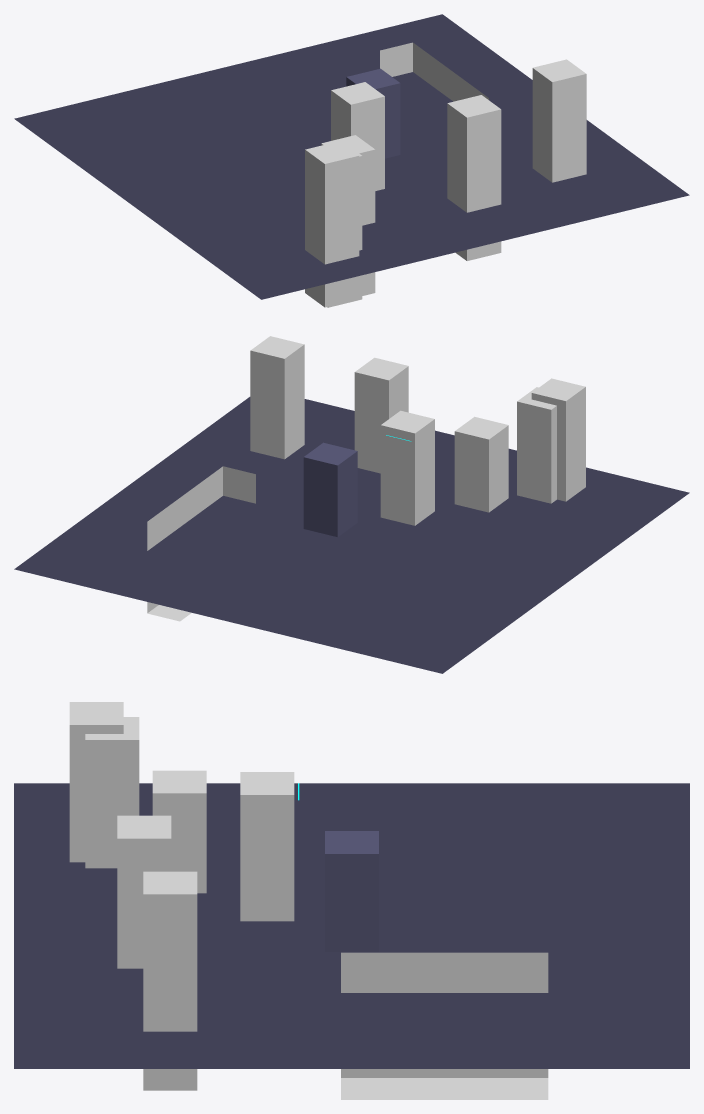
Rendered from cyberpunk_city.glb.
3 renders of one model, top to bottom at view 1: azimuth 30°, elevation 25°; view 2: azimuth 150°, elevation 25°; view 3: azimuth 270°, elevation 25°, orthographic. The views are drawn at different scales.
Visible parts, largest first — view 1: Ground, Building_01.004, Building_01.007, Building_01.006, Building_01.003, Building_01.001, Building_01, Building_01.002, Building_01.005; view 2: Ground, Building_01.006, Building_01.003, Building_01.002, Building_01, Building_01.007, Building_01.005, Building_01.004, Building_01.001; view 3: Ground, Building_01.001, Building_01.006, Building_01.003, Building_01.005, Building_01, Building_01.007, Building_01.002, Building_01.004.
Part boxes in pixels (left/top/right/bottom): Ground: left=14, top=14, right=689, bottom=299; Building_01.004: left=305, top=141, right=359, bottom=307; Building_01.007: left=447, top=95, right=501, bottom=260; Building_01.006: left=532, top=59, right=586, bottom=182; Building_01.003: left=331, top=82, right=384, bottom=190; Building_01.001: left=380, top=42, right=488, bottom=101; Building_01: left=346, top=68, right=400, bottom=158; Building_01.002: left=321, top=135, right=375, bottom=295; Building_01.005: left=327, top=141, right=362, bottom=307; Ground: left=14, top=397, right=689, bottom=673; Building_01.006: left=250, top=336, right=304, bottom=459; Building_01.003: left=380, top=410, right=434, bottom=525; Building_01.002: left=454, top=416, right=508, bottom=512; Building_01: left=303, top=442, right=357, bottom=537; Building_01.007: left=354, top=357, right=408, bottom=473; Building_01.005: left=517, top=387, right=556, bottom=503; Building_01.004: left=531, top=378, right=585, bottom=501; Building_01.001: left=147, top=466, right=255, bottom=621; Ground: left=14, top=783, right=689, bottom=1068; Building_01.001: left=341, top=952, right=548, bottom=1099; Building_01.006: left=143, top=871, right=197, bottom=1090; Building_01.003: left=240, top=772, right=294, bottom=921; Building_01.005: left=85, top=717, right=139, bottom=868; Building_01: left=325, top=831, right=378, bottom=951; Building_01.007: left=117, top=815, right=171, bottom=968; Building_01.002: left=152, top=770, right=206, bottom=893; Building_01.004: left=69, top=702, right=123, bottom=862.
Bounding box in the file's own units: 100 × 38.41 × 100.
